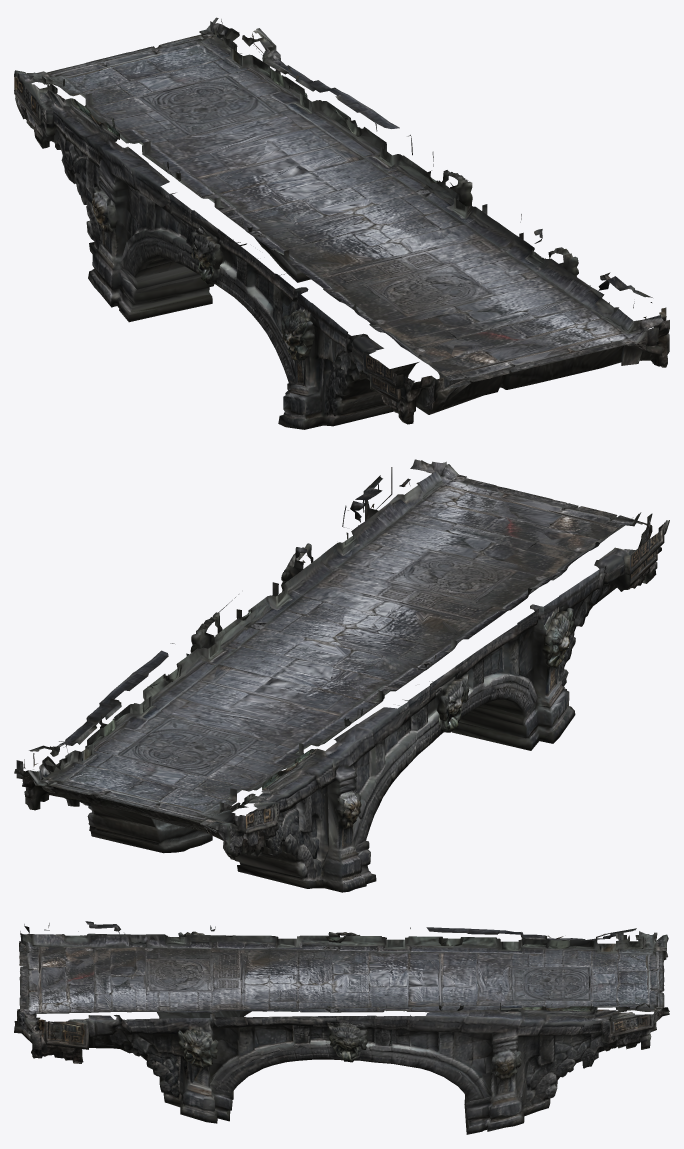
Rendered from bridge_module-separated-rails-r2.glb.
3 renders of one model, top to bottom at view 1: azimuth 30°, elevation 25°; view 2: azimuth 150°, elevation 25°; view 3: azimuth 270°, elevation 25°, orthographic. The views are drawn at different scales.
Parts seen in each view (by area): view 1: tripo_node_38051afa-3c7d-43ce-afbe-cb5a05aa1957; view 2: tripo_node_38051afa-3c7d-43ce-afbe-cb5a05aa1957; view 3: tripo_node_38051afa-3c7d-43ce-afbe-cb5a05aa1957.
Boxes of the visible parts, bbox=[...] form: tripo_node_38051afa-3c7d-43ce-afbe-cb5a05aa1957: bbox=[14, 17, 669, 429]; tripo_node_38051afa-3c7d-43ce-afbe-cb5a05aa1957: bbox=[14, 459, 669, 892]; tripo_node_38051afa-3c7d-43ce-afbe-cb5a05aa1957: bbox=[14, 921, 669, 1134].
Size of the model in its own units: 0.3739 by 0.1947 by 0.9851.
Materials: 1 (1 with a texture image).
